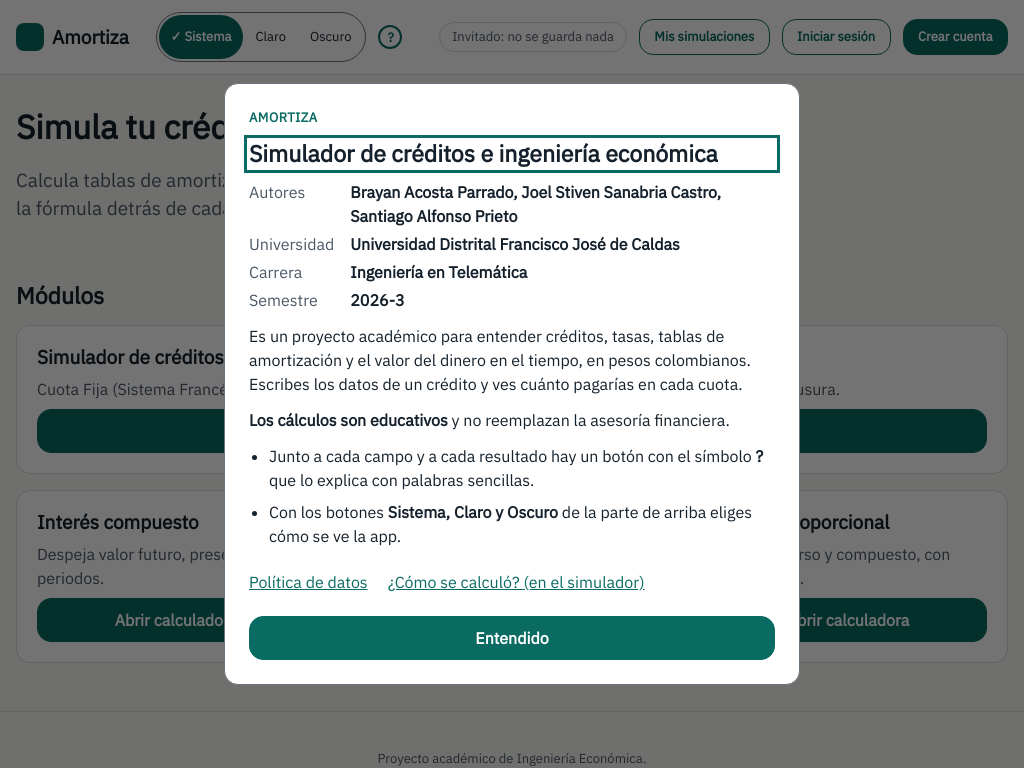
Test: Ventana de bienvenida › «Entendido» la cierra
The image size is (1024, 768).
Step 1. Click the button "Entendido" → [512, 638], box [249, 616, 775, 660]
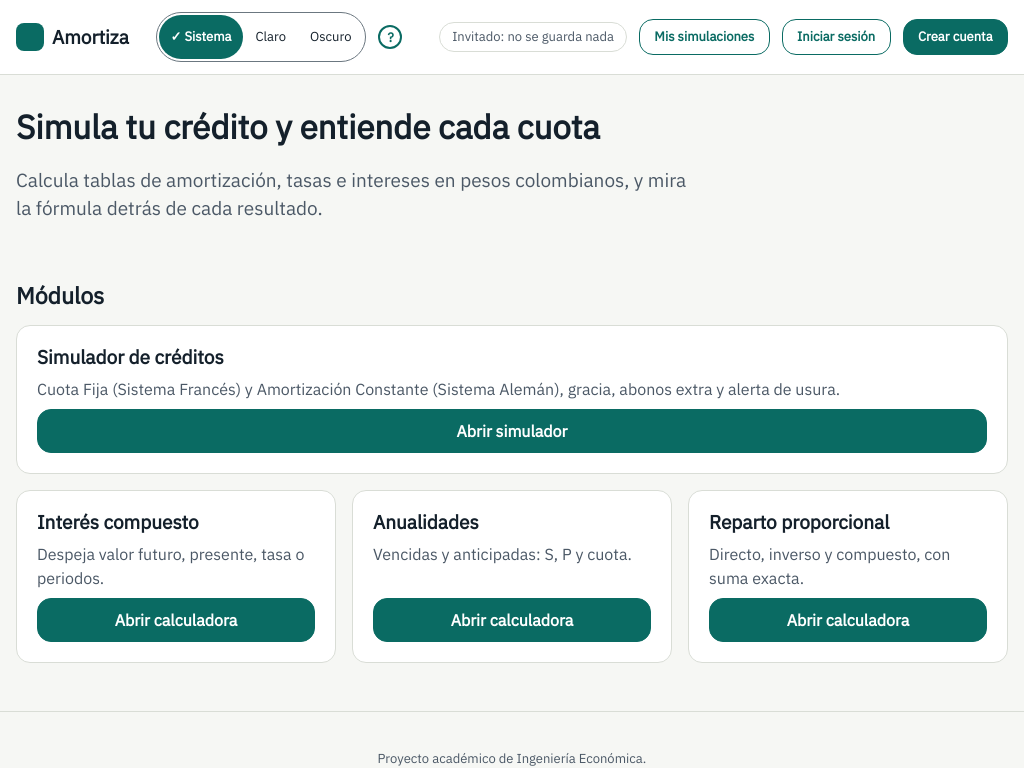
Now the dialog is gone
